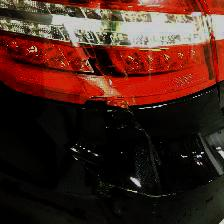tail_lamp: (47, 20, 202, 213)
